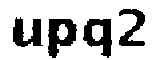2: (118, 5, 149, 48)
p: (45, 15, 79, 60)
q: (84, 17, 114, 60)
u: (7, 14, 44, 51)
